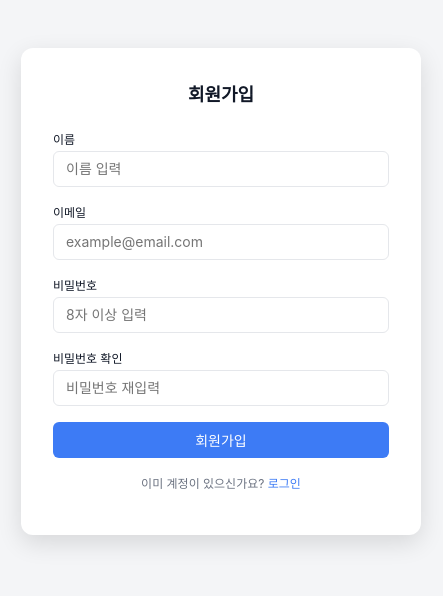
이름 빈 값 제출 시 유효성 오류
The width and height of the screenshot is (443, 596).
Click the button "회원가입" at coordinates (221, 440), box [53,422,389,458]
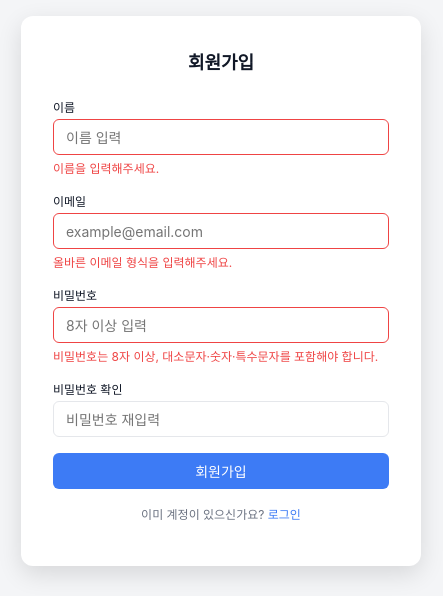
Now the text "이름을 입력해주세요." is shown, box [53,161,159,176]
